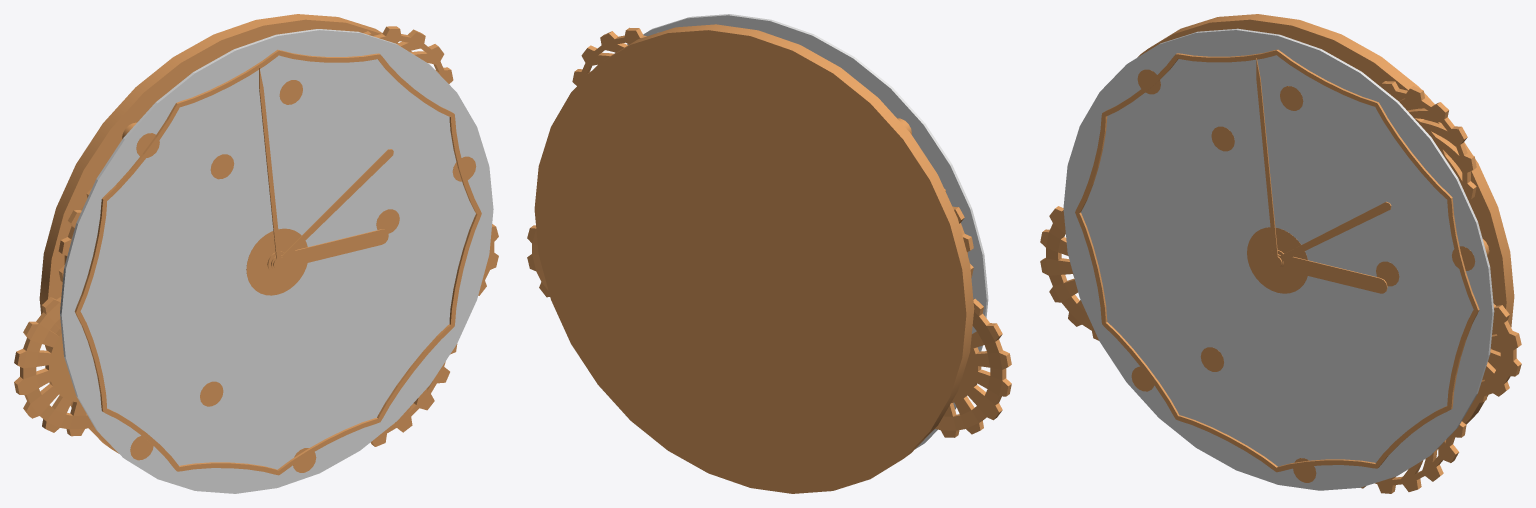
The model's file is clock.fbx.
3 renders of one model, left to right at view 1: azimuth 30°, elevation 25°; view 2: azimuth 150°, elevation 25°; view 3: azimuth 330°, elevation 25°, orthographic.
Parts seen in each view (by area): view 1: Circle.020, Circle.015, Circle.022, ch2.root.002, Circle.021, Circle.016, Circle.017, ch2.one_way.002, Circle.018, Circle.019, ch1.one_way.001; view 2: Circle.015, Circle.020, ch2.root.002, ch2.one_way.002, ch3.root.001; view 3: Circle.020, Circle.015, Circle.022, Circle.021, ch2.one_way.002, ch2.root.002, ch3.root.001, Circle.016, Circle.017, ch1.one_way.001, Circle.019, Circle.018.
Part boxes in pixels (box(x1,y1,x2,y2)): Circle.020: box(60, 29, 493, 493); Circle.015: box(39, 14, 411, 453); Circle.022: box(74, 49, 481, 475); ch2.root.002: box(14, 297, 93, 436); Circle.021: box(122, 80, 476, 472); Circle.016: box(246, 228, 307, 295); Circle.017: box(267, 229, 388, 273); ch2.one_way.002: box(363, 26, 453, 83); Circle.018: box(271, 149, 393, 270); Circle.019: box(259, 68, 285, 269); ch1.one_way.001: box(370, 344, 457, 446); Circle.015: box(534, 24, 974, 493); Circle.020: box(615, 14, 988, 449); ch2.root.002: box(935, 298, 1011, 437); ch2.one_way.002: box(572, 27, 646, 85); ch3.root.001: box(527, 225, 549, 297); Circle.020: box(1063, 28, 1494, 490); Circle.015: box(1137, 14, 1514, 449); Circle.022: box(1075, 49, 1479, 472); Circle.021: box(1131, 69, 1489, 482); ch2.one_way.002: box(1381, 81, 1476, 199); ch2.root.002: box(1040, 206, 1098, 340); ch3.root.001: box(1472, 304, 1521, 402); Circle.016: box(1247, 227, 1307, 293); Circle.017: box(1267, 250, 1387, 293); ch1.one_way.001: box(1361, 421, 1466, 493); Circle.019: box(1256, 58, 1282, 268); Circle.018: box(1269, 201, 1391, 268).
Bounding box in the file's own units: 218 × 196 × 18.87.
